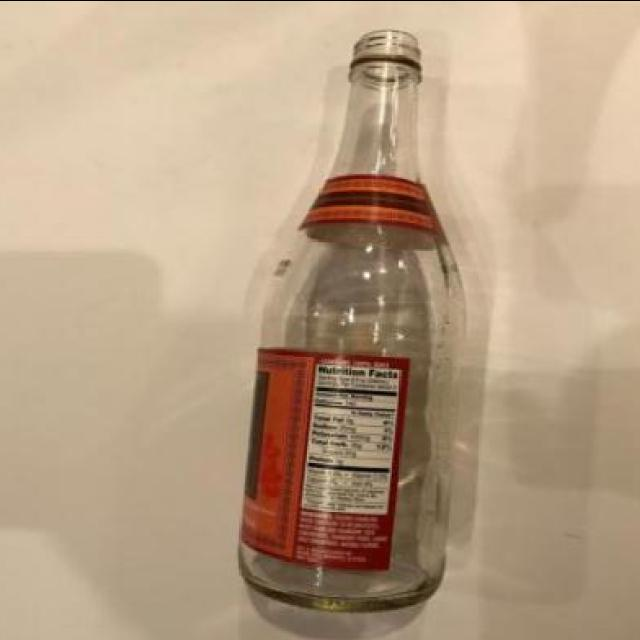kaca: (237, 28, 470, 610)
